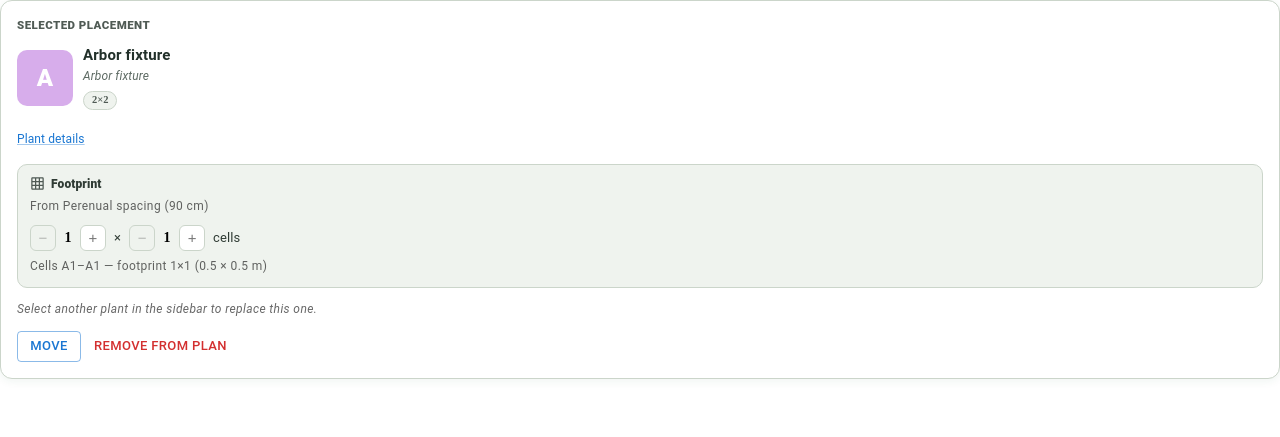
Test: PlacementDetailPanel footprint section (SMA-193 lot 3) › a misfit step keeps the draft, warns with the hit plant + cell, applies nothing
What coordinates should you click on to do the following:
click the button named "Increase columns"
I would click on:
 (192, 238)
Its box is [179,225,205,251].
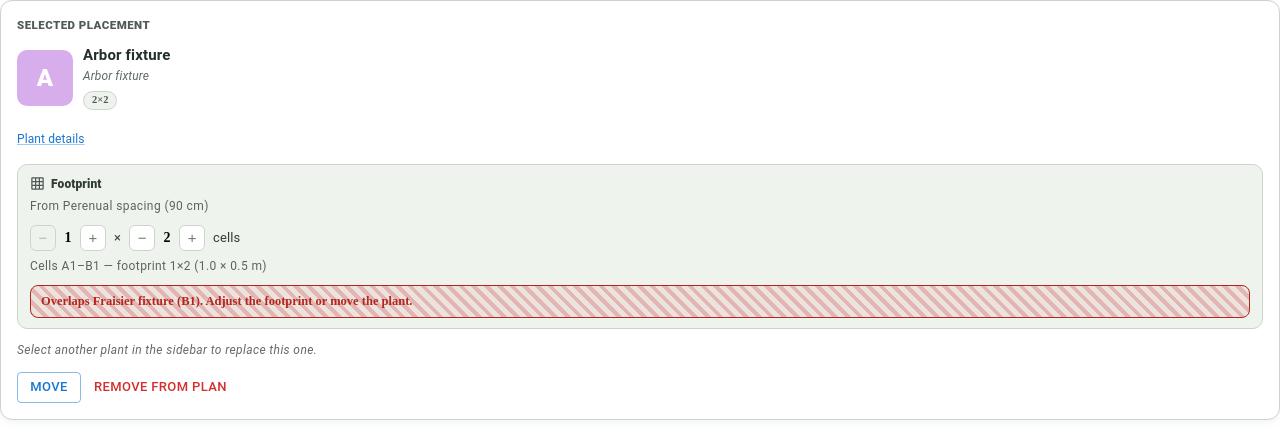
Expected: the message reads "Overlaps Fraisier fixture (B1). Adjust the footprint or move the plant.", [41,294,412,308]
Expected: the text "Cells A1–B1 — footprint 1×2 (1.0 × 0.5 m)" is shown, [30,259,267,273]
